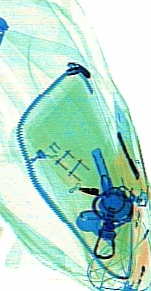lighter: (122, 237, 150, 290)
